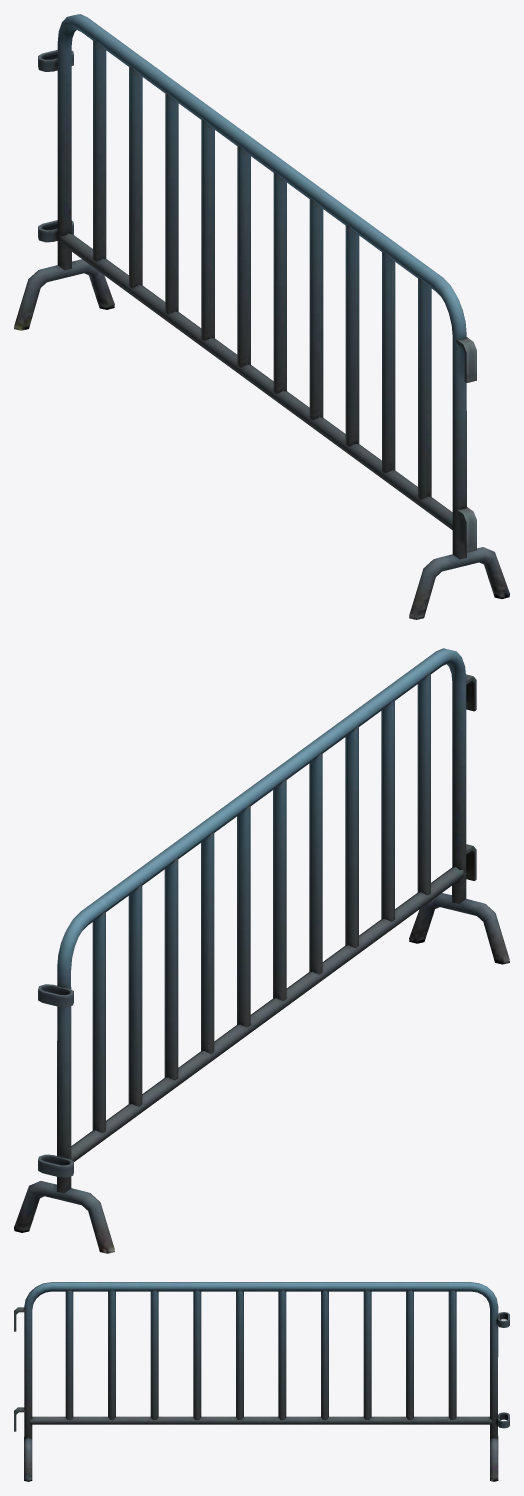
3 renders of one model, top to bottom at view 1: azimuth 30°, elevation 25°; view 2: azimuth 150°, elevation 25°; view 3: azimuth 270°, elevation 25°, orthographic. The views are drawn at different scales.
Visible parts, largest first — view 1: body0_model0_lod0_mesh0; view 2: body0_model0_lod0_mesh0; view 3: body0_model0_lod0_mesh0.
Part boxes in pixels (bbox=[...]): body0_model0_lod0_mesh0: bbox=[14, 14, 509, 619]; body0_model0_lod0_mesh0: bbox=[14, 648, 509, 1253]; body0_model0_lod0_mesh0: bbox=[14, 1282, 509, 1481].
Size of the model in its own units: 15.81 by 46.87 by 114.
1 material, 1 textured.
